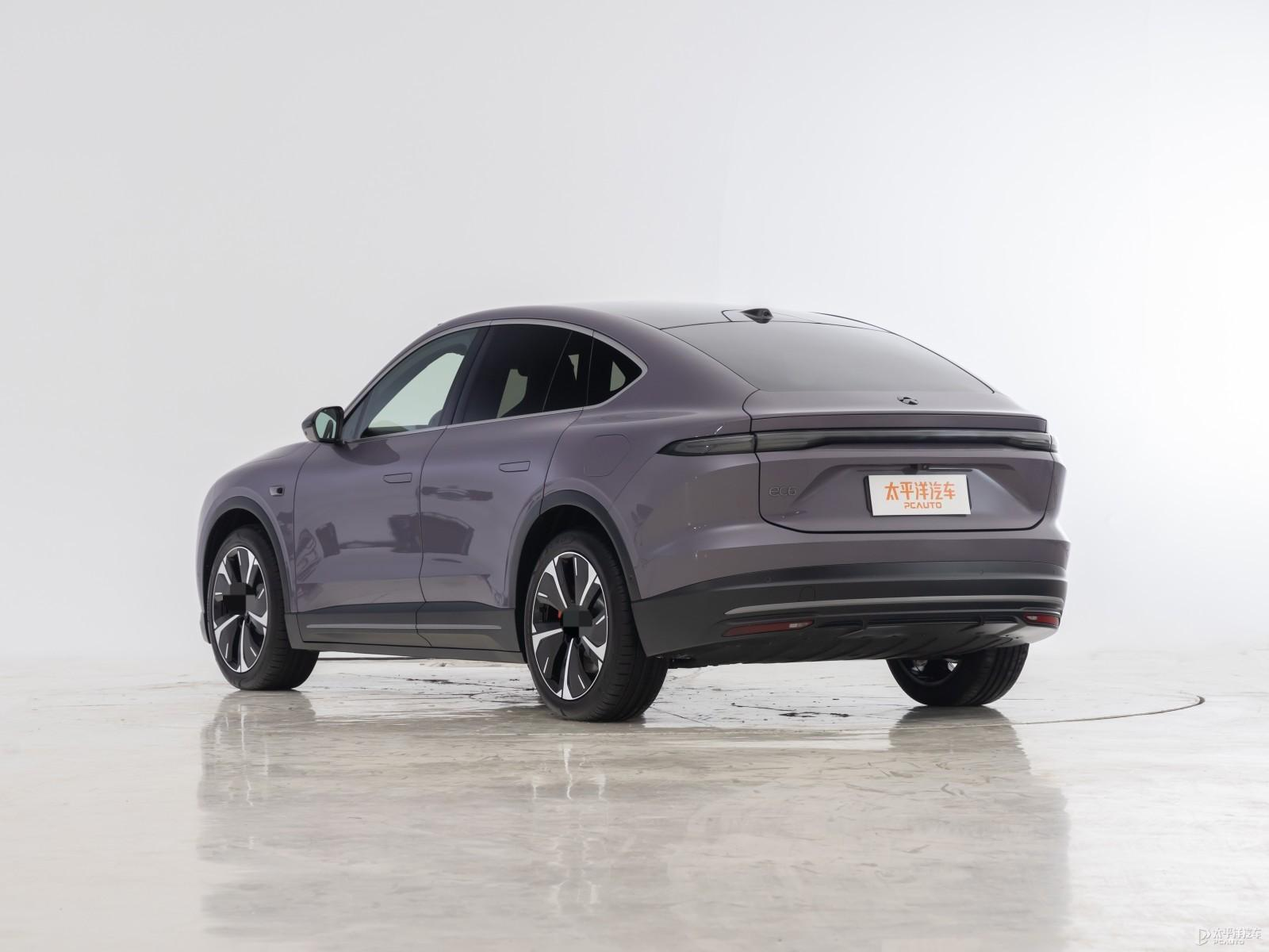NIO: (896, 394, 918, 405)
